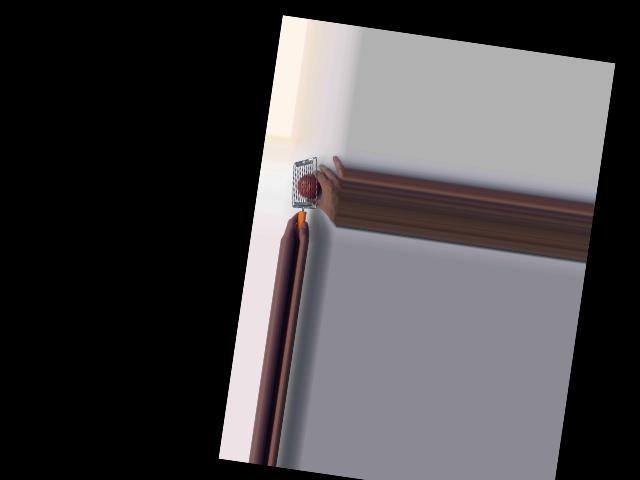tomato: (296, 173, 321, 200)
